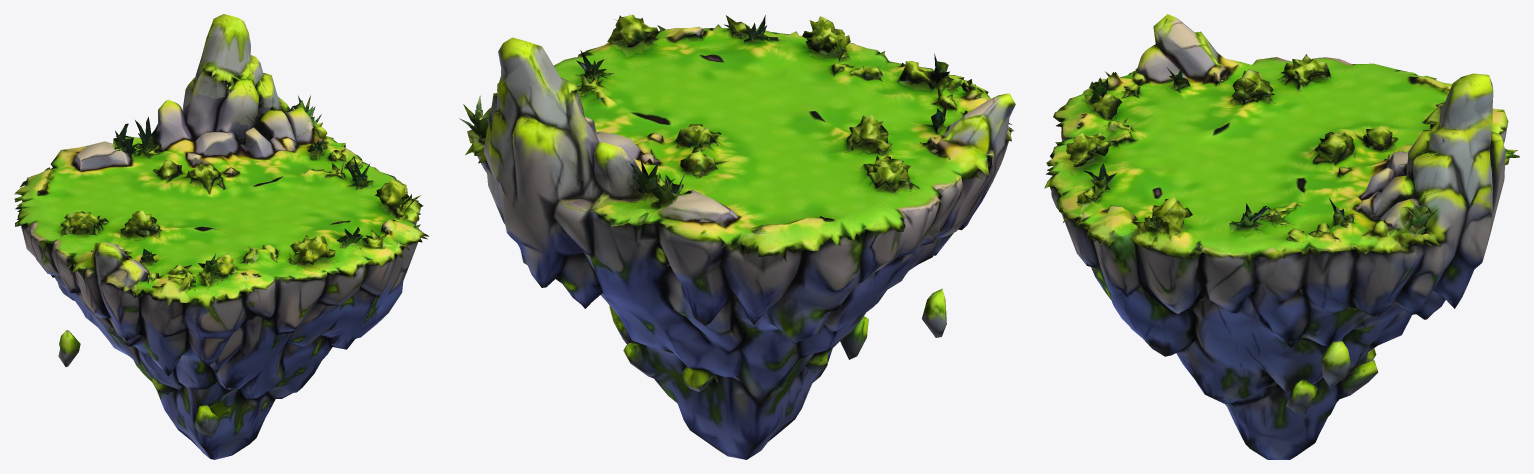
The model's file is Floating_Paradise.glb.
3 views of the same model, side by side, from view 1: azimuth 30°, elevation 25°; view 2: azimuth 150°, elevation 25°; view 3: azimuth 270°, elevation 25° (orthographic). The views are drawn at different scales.
Parts seen in each view (by area): view 1: Floating_Paradise; view 2: Floating_Paradise; view 3: Floating_Paradise.
Part boxes in pixels (bbox=[...]): Floating_Paradise: bbox=[14, 14, 428, 459]; Floating_Paradise: bbox=[459, 14, 1015, 459]; Floating_Paradise: bbox=[1044, 14, 1519, 459].
Bounding box in the file's own units: 1.86 × 1.89 × 1.87.
Materials: 1 (1 with a texture image).
